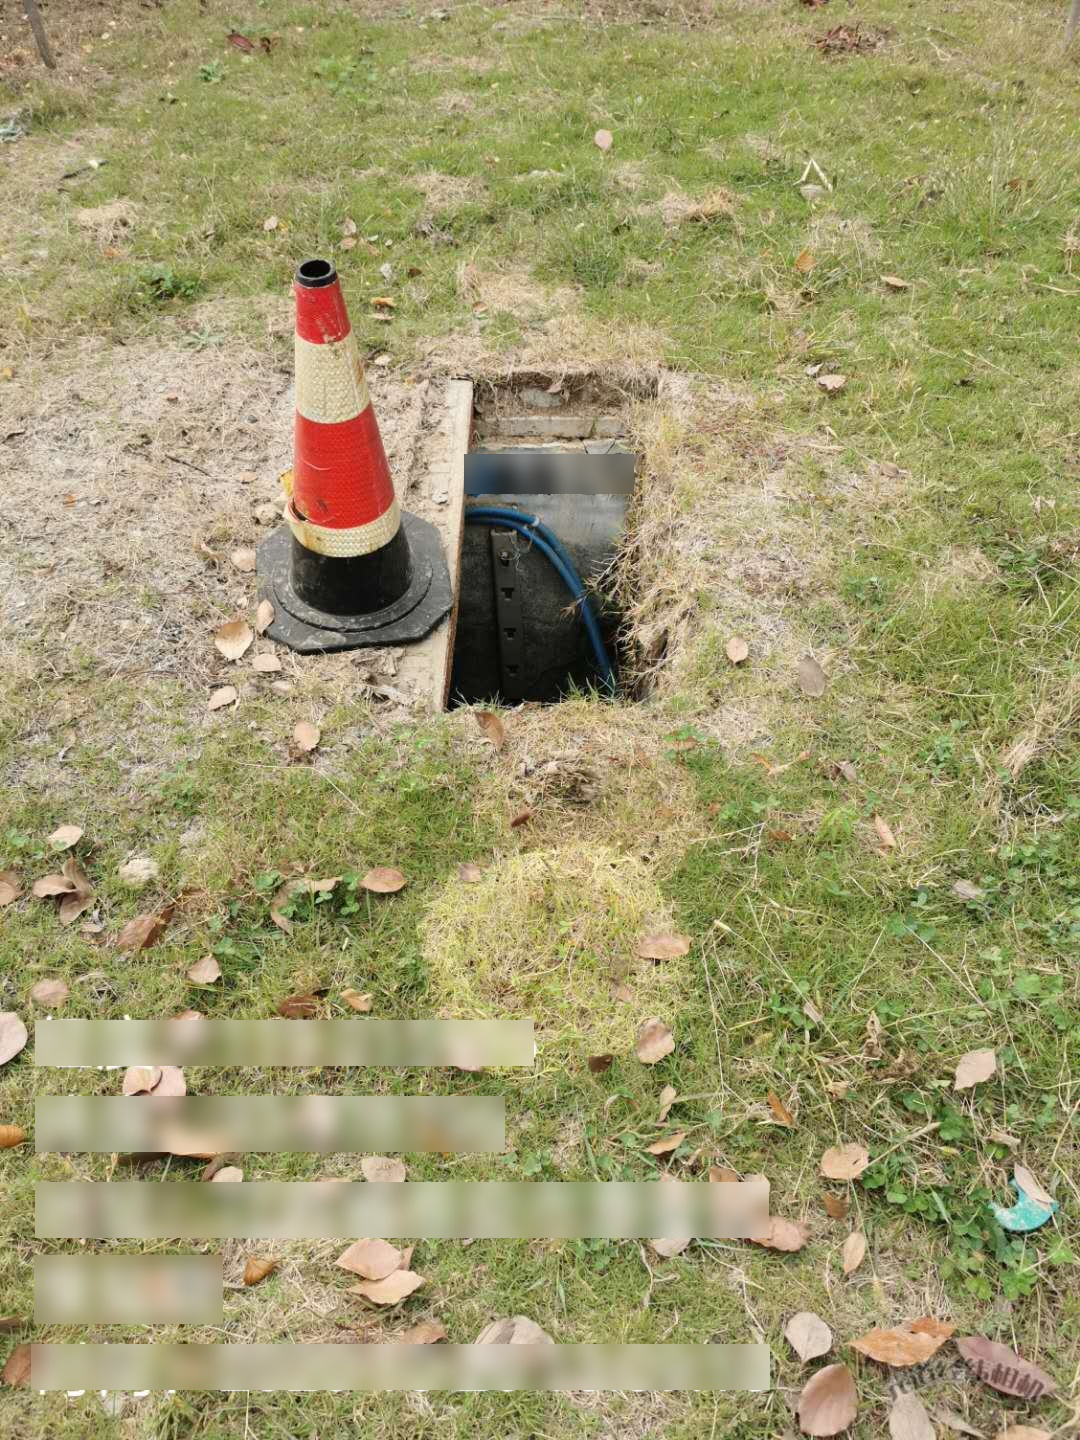lose: (431, 363, 659, 715)
